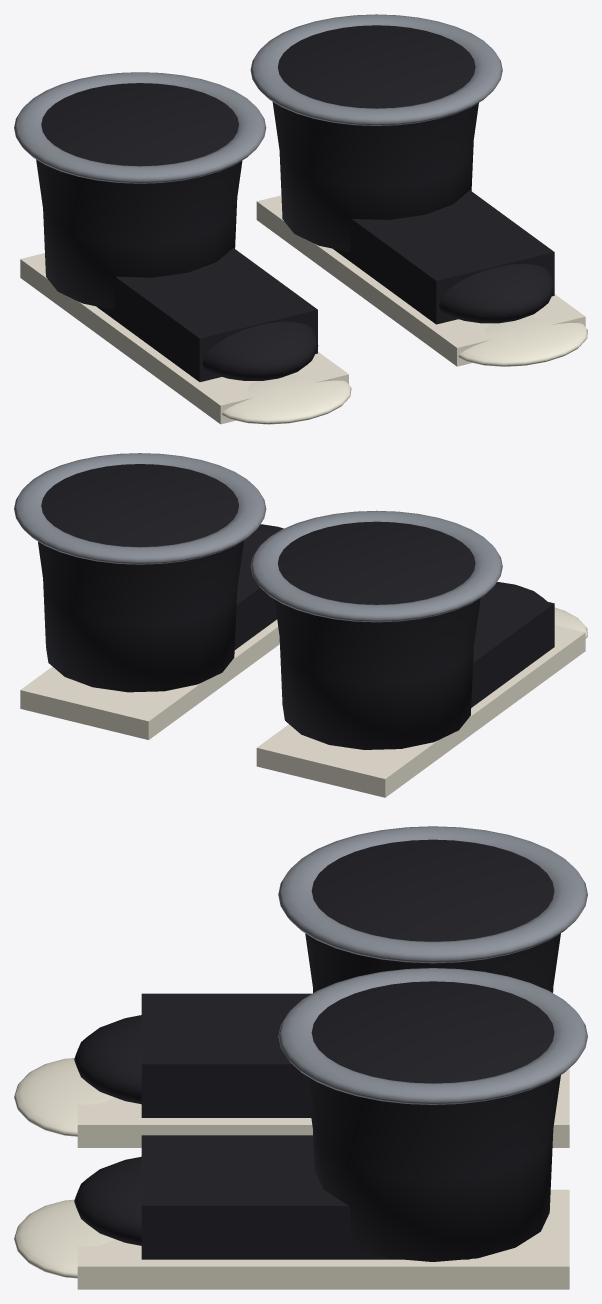
File: shoes_start_m.glb
3 views of the same model, one above another, from view 1: azimuth 30°, elevation 25°; view 2: azimuth 150°, elevation 25°; view 3: azimuth 270°, elevation 25° (orthographic). The views are drawn at different scales.
Size of the model in its own units: 0.3965 by 0.1505 by 0.3528.
